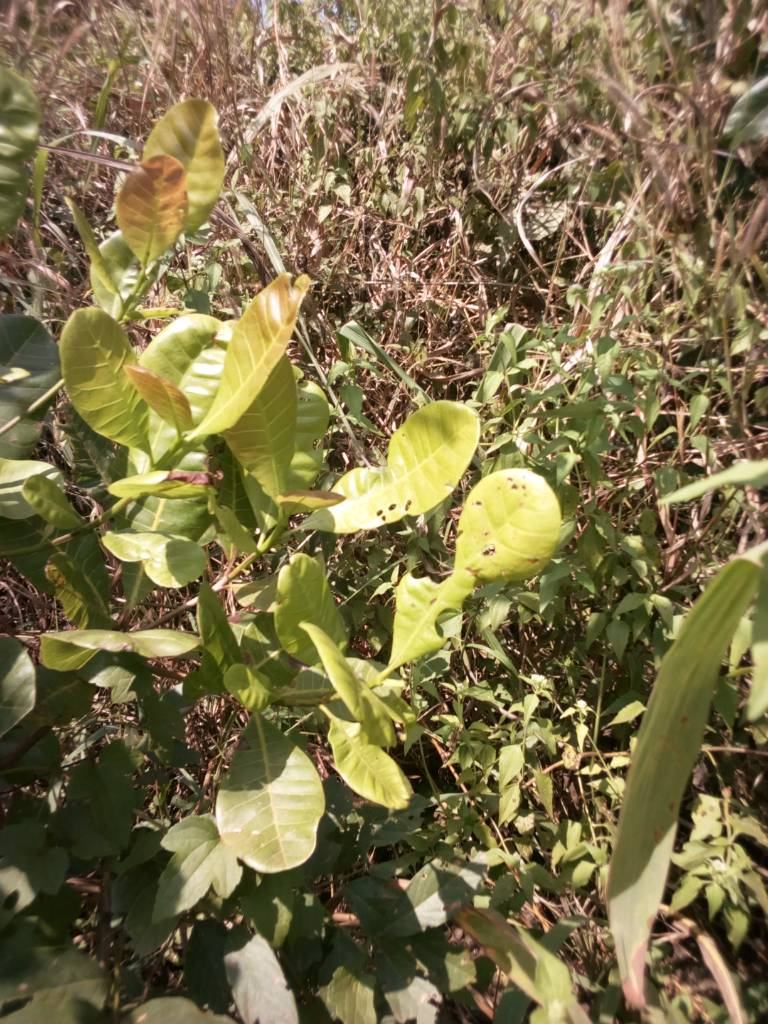Anoplocnemis curvipes: (383, 469, 560, 682)
